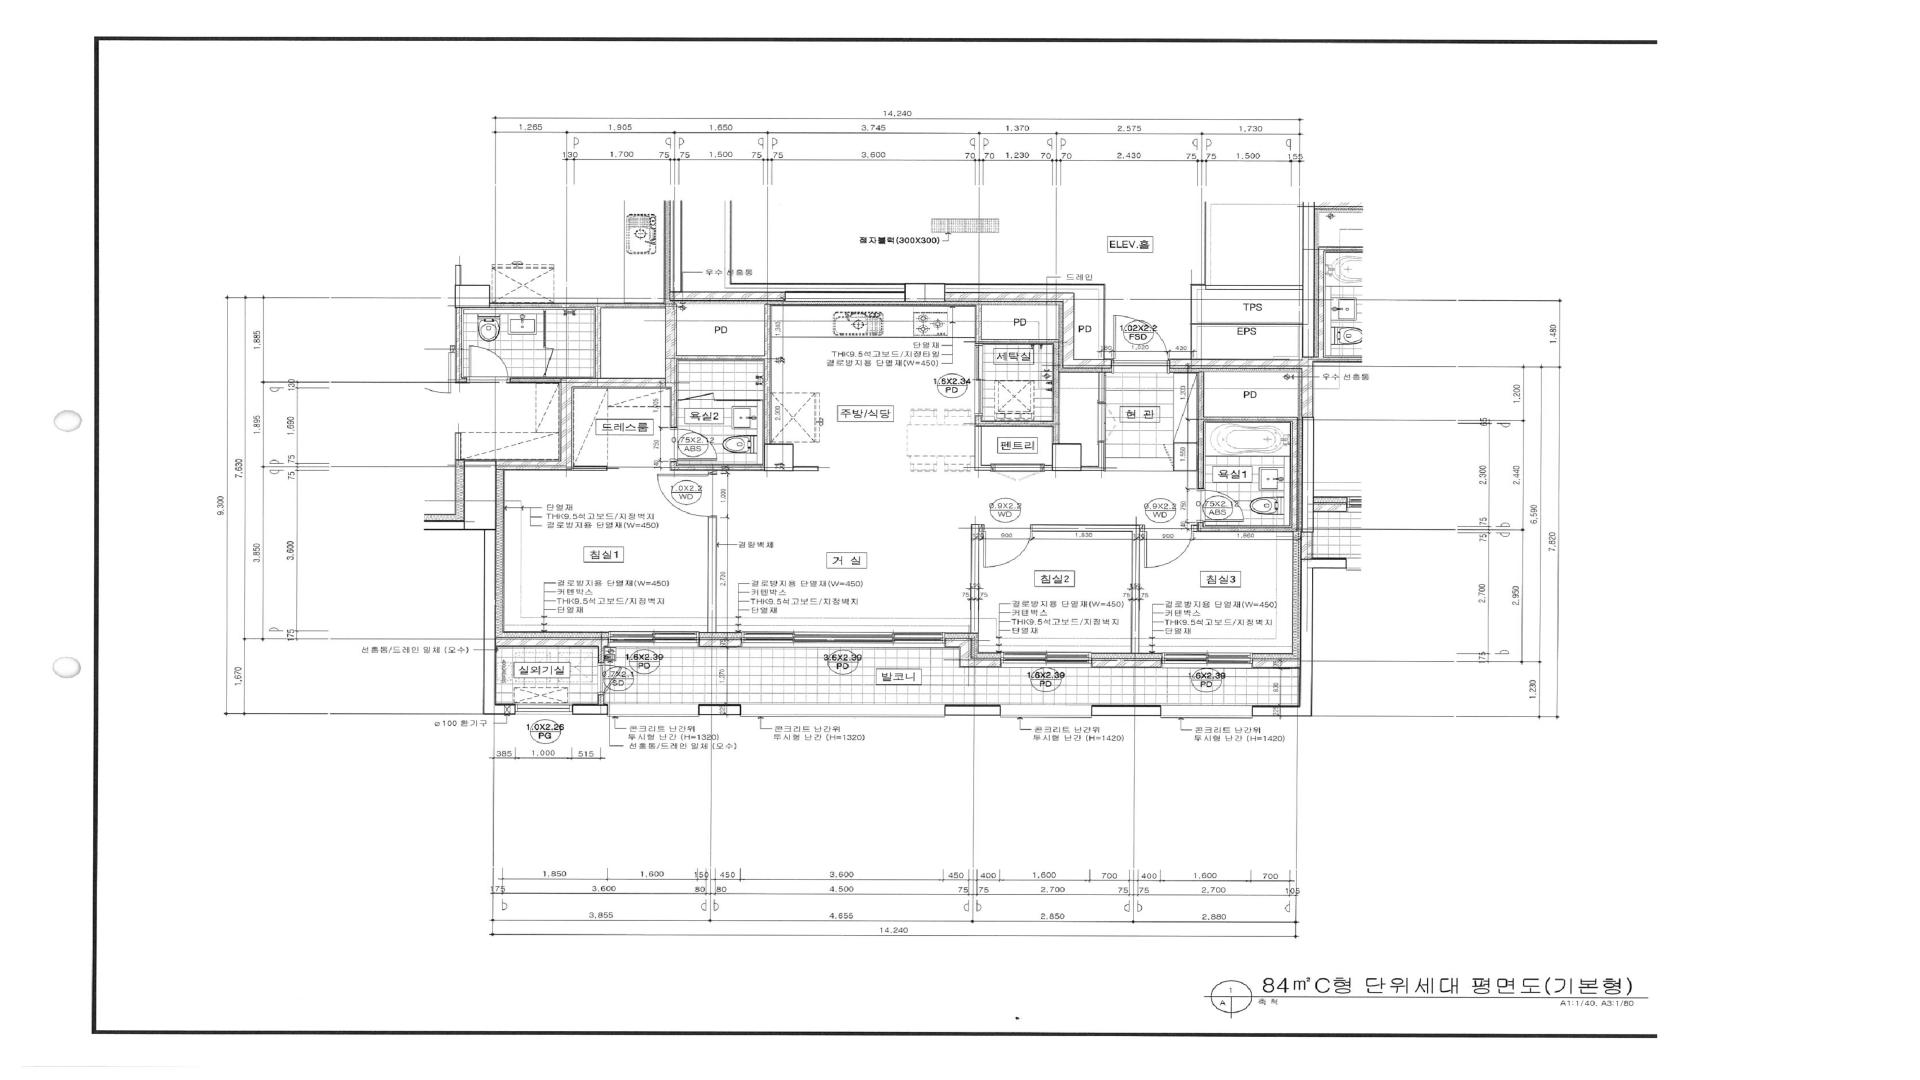door: (1112, 315, 1170, 374), (657, 470, 717, 517), (1140, 525, 1198, 568), (979, 524, 1032, 568), (670, 428, 717, 461), (1197, 489, 1244, 522), (991, 463, 1044, 482), (598, 663, 622, 694), (975, 344, 983, 416), (678, 393, 716, 401)
wall: (464, 461, 497, 530), (483, 531, 496, 704), (1302, 202, 1315, 357), (1300, 568, 1313, 706), (1302, 417, 1314, 532), (945, 292, 1075, 302), (786, 291, 904, 302), (670, 291, 786, 302), (1170, 360, 1302, 369), (669, 200, 682, 291), (1131, 532, 1140, 654), (561, 378, 677, 387), (708, 518, 717, 633), (496, 637, 608, 646), (970, 524, 979, 633), (665, 304, 677, 378), (1032, 524, 1140, 532), (1052, 443, 1082, 471), (764, 304, 770, 443), (561, 387, 572, 461), (764, 443, 793, 471), (904, 283, 945, 302), (1198, 372, 1204, 489), (1091, 706, 1161, 716), (497, 461, 572, 470), (1302, 357, 1313, 417), (1292, 422, 1298, 527), (1063, 302, 1074, 359), (1092, 658, 1161, 667), (1252, 706, 1312, 716), (1053, 344, 1059, 443), (944, 706, 1001, 716), (1206, 285, 1302, 290), (1252, 658, 1300, 668), (1204, 416, 1298, 421), (1204, 526, 1297, 531), (1063, 359, 1112, 368), (677, 465, 764, 470), (677, 355, 764, 360), (698, 705, 741, 715), (699, 637, 742, 647), (975, 339, 1059, 344), (1301, 559, 1347, 568), (572, 705, 608, 715), (981, 421, 1053, 426), (483, 704, 515, 714), (945, 283, 1105, 285), (974, 426, 982, 465), (1301, 532, 1312, 559), (972, 658, 1001, 667), (945, 638, 972, 647), (671, 388, 677, 428), (1192, 323, 1302, 325), (960, 647, 971, 667), (572, 465, 607, 471), (975, 304, 981, 339), (1098, 372, 1104, 402), (1190, 284, 1192, 359), (1103, 285, 1105, 359), (1098, 442, 1104, 466), (794, 466, 819, 471), (1082, 466, 1104, 471), (598, 646, 604, 663), (717, 399, 763, 401), (974, 465, 991, 470), (598, 694, 604, 705), (975, 416, 981, 426), (671, 461, 677, 470), (1198, 522, 1204, 531), (1044, 465, 1052, 471), (1192, 284, 1205, 285)
window: (742, 631, 945, 648), (741, 704, 944, 717), (1162, 652, 1252, 669), (608, 631, 699, 647), (1001, 652, 1091, 668), (1161, 705, 1252, 718), (608, 704, 698, 717), (1001, 705, 1091, 718), (516, 704, 572, 715)
